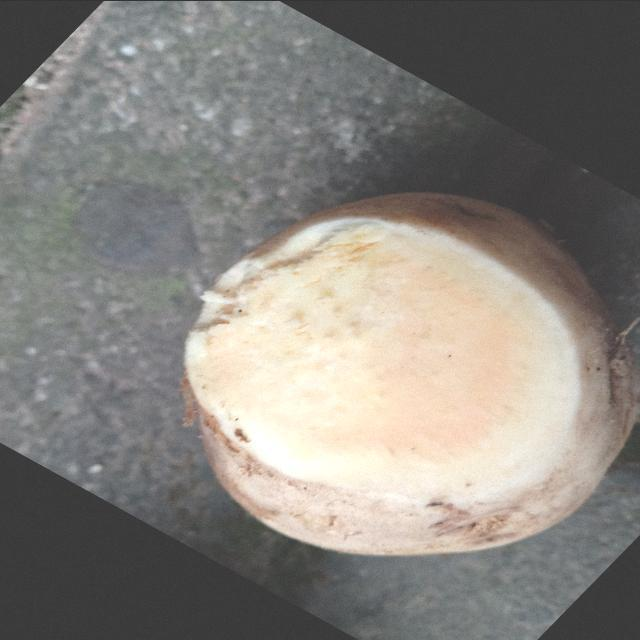Healthy Sweet Potato: (185, 216, 582, 502)
